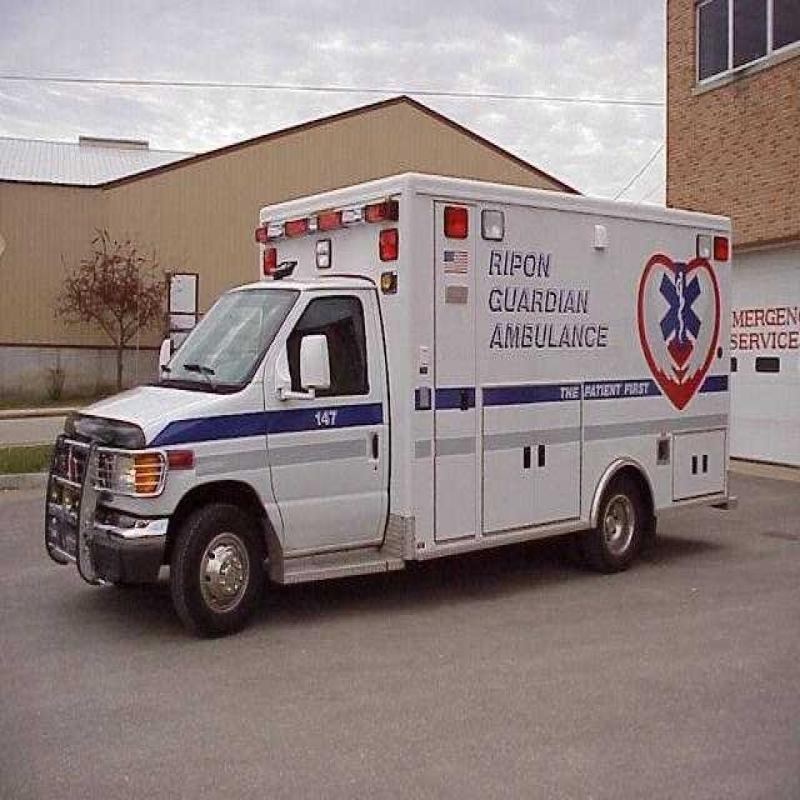AmbulanceSiren: (242, 192, 414, 250)
ambulance: (53, 146, 758, 632)
